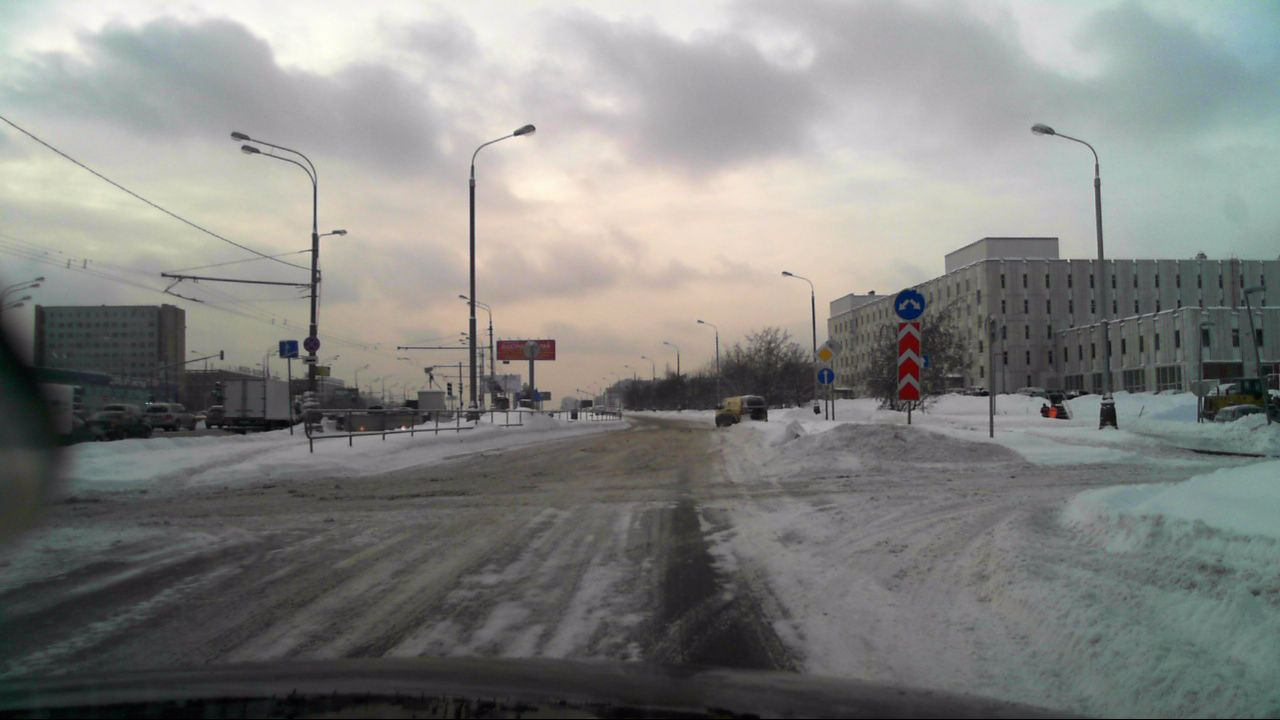No Parking: (301, 336, 320, 354)
